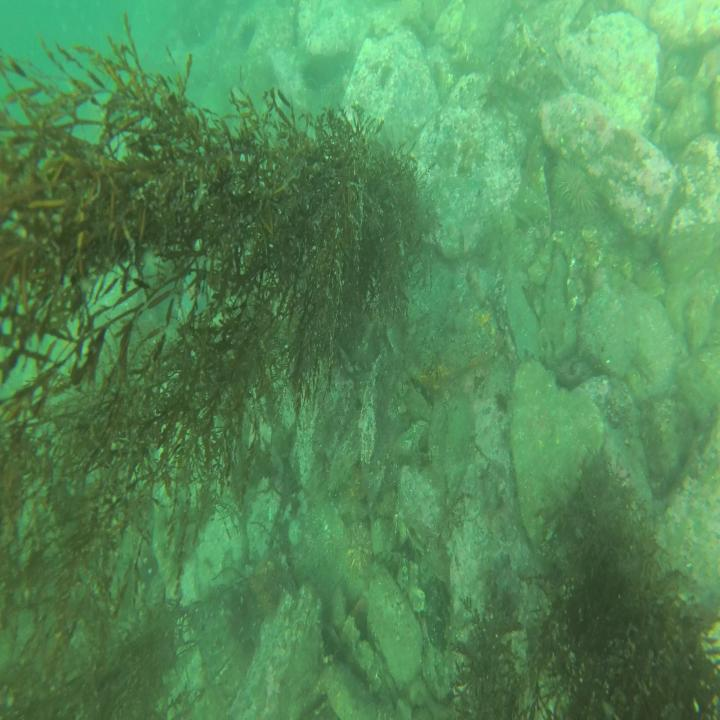echinus: (556, 149, 599, 219), (347, 520, 375, 577), (239, 16, 257, 46)
